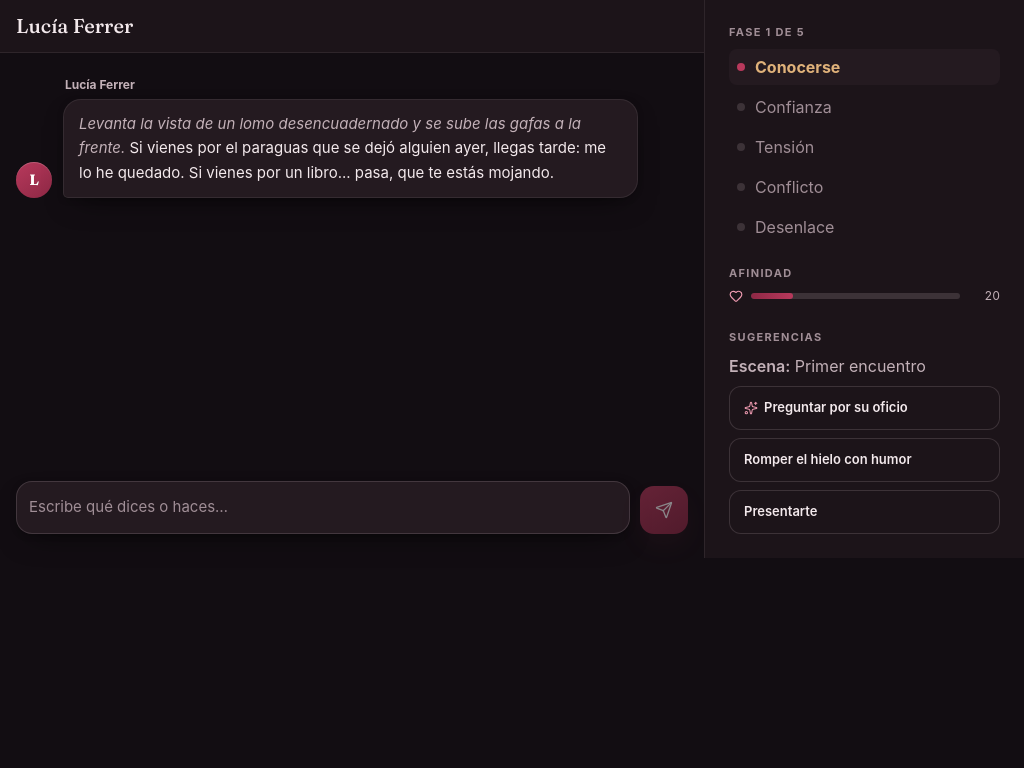
partida cerrada › story_closed avisa, deshabilita compositor y sugerencias y no guarda el mensaje
The width and height of the screenshot is (1024, 768).
Type "#cerrar esto no debería guardarse" into the text box named "Mensaje".
click(323, 507); type("#cerrar esto no debería guardarse")  # box [29,488,617,526]
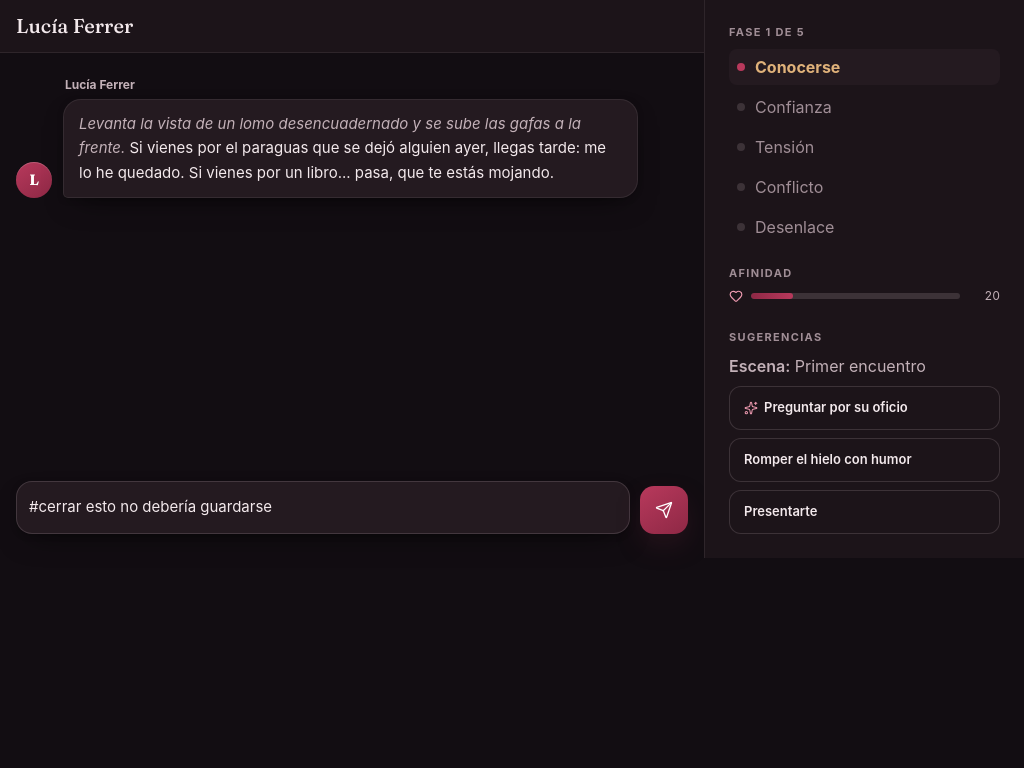
Click the button named "Enviar mensaje".
click(664, 510)  # box [640,486,688,534]
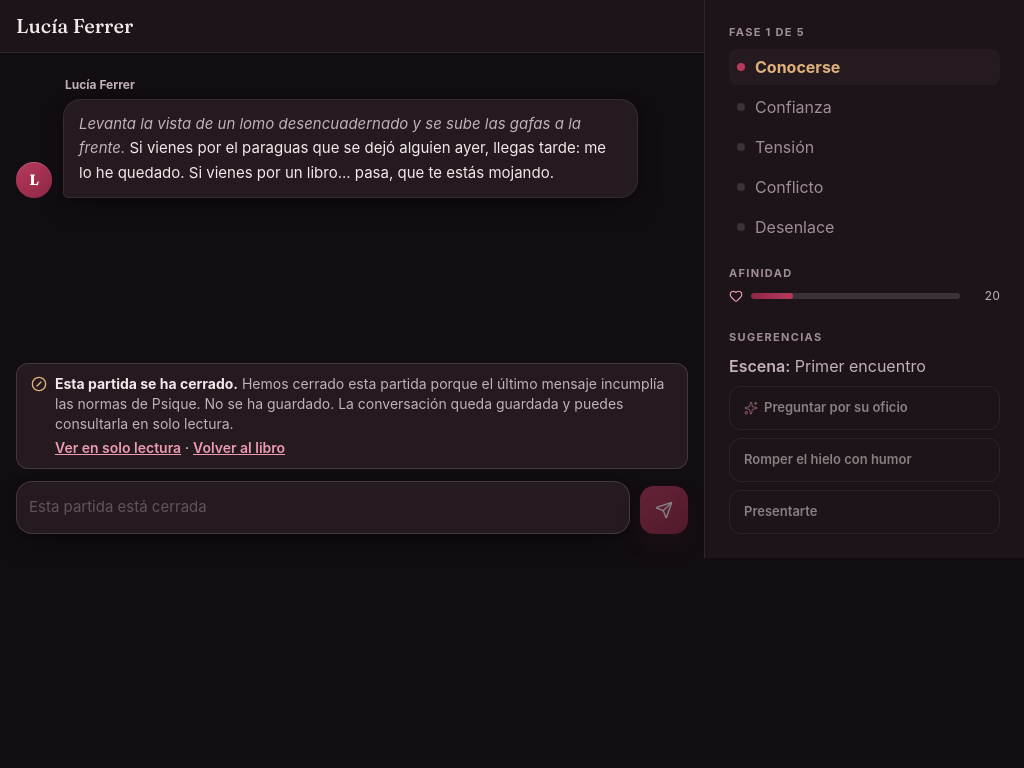
Check: the message shows "Esta partida se ha cerrado.", box [55,375,238,392]
Check: the message shows "Hemos cerrado esta partida porque el último mensaje incumplía las normas de Psique. No se ha guardado.", box [55,375,664,412]
Check: the link "Ver en solo lectura" is shown, box [55,439,181,456]
